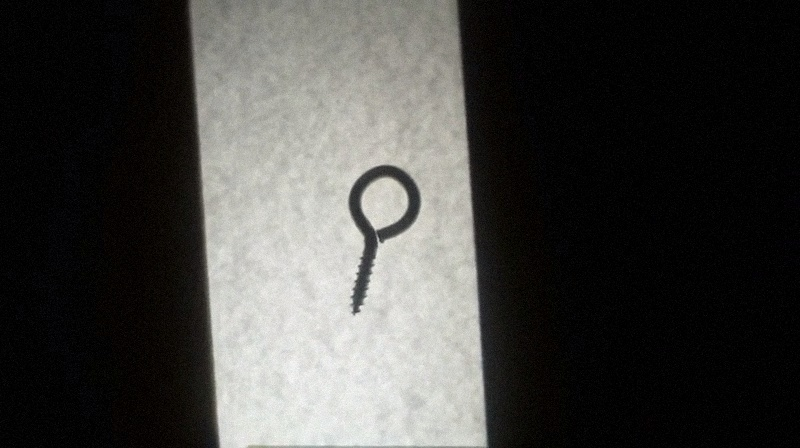O001: (343, 163, 425, 318)
